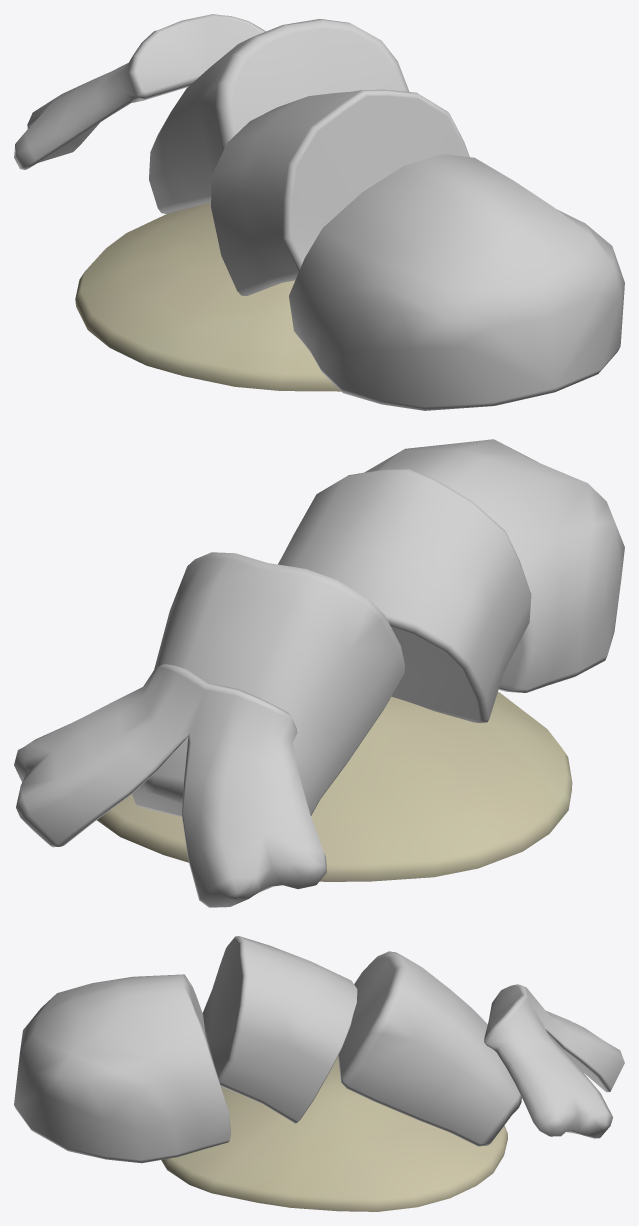
Rendered from m_plated_sushi_wrong_02.fbx.
3 renders of one model, top to bottom at view 1: azimuth 30°, elevation 25°; view 2: azimuth 150°, elevation 25°; view 3: azimuth 270°, elevation 25°, orthographic. The views are drawn at different scales.
Parts seen in each view (by area): view 1: m_plated_sushi_wrong_02_1, m_plated_sushi_wrong_02_0; view 2: m_plated_sushi_wrong_02_1, m_plated_sushi_wrong_02_0; view 3: m_plated_sushi_wrong_02_1, m_plated_sushi_wrong_02_0.
Boxes of the visible parts, x1,y1,x2,y2 form: m_plated_sushi_wrong_02_1: (14, 14, 624, 410); m_plated_sushi_wrong_02_0: (75, 202, 340, 391); m_plated_sushi_wrong_02_1: (14, 439, 624, 907); m_plated_sushi_wrong_02_0: (97, 692, 572, 881); m_plated_sushi_wrong_02_1: (14, 936, 624, 1163); m_plated_sushi_wrong_02_0: (161, 1056, 507, 1211).
Bounding box in the file's own units: 0.578 × 0.3438 × 0.9916.
